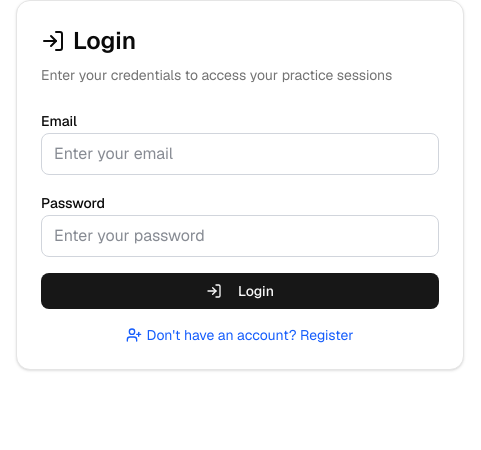
Test: LoginForm › should handle login errors gracefully
Type "test@example.com" into the field labelled "Email" at (240, 154), box [41,133,439,175]
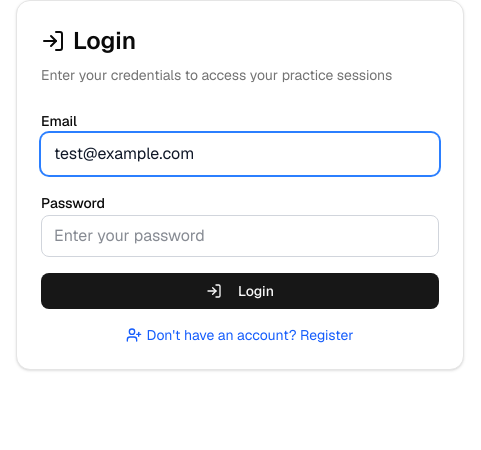
Type "password123" into the password field labelled "Password" at (240, 236), box [41,215,439,257]
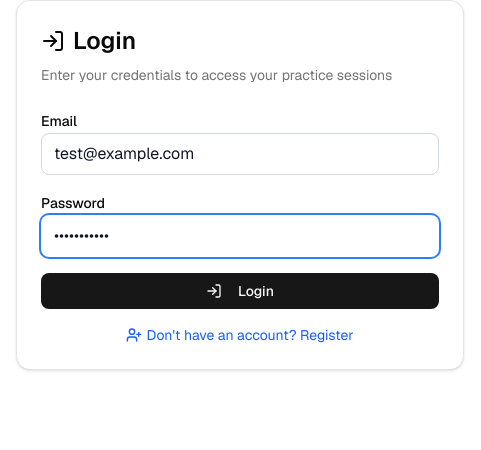
Click the button "Login" at (240, 291), box [41,273,439,309]
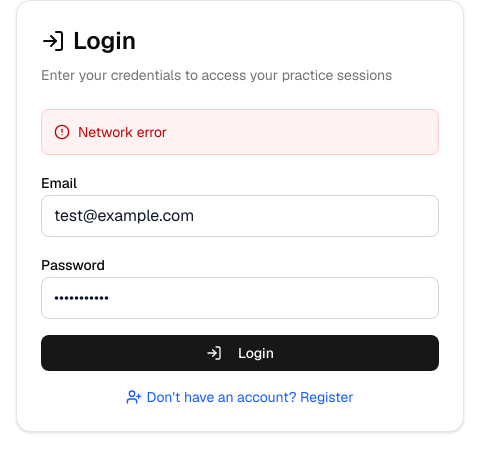
Now the text "Network error" is shown, box [78,122,167,142]
